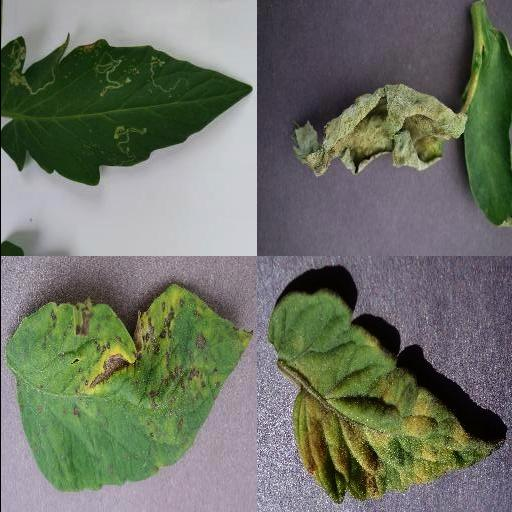Late Blight: (283, 84, 469, 178)
Leaf Miner: (0, 35, 252, 187)
Leaf Mold: (267, 291, 503, 504)
Septoria: (3, 286, 253, 490)
